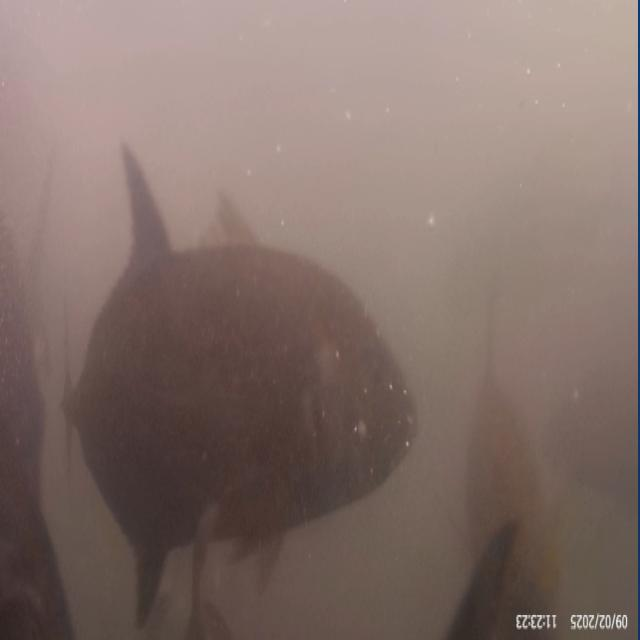ikan: (60, 137, 419, 633)
